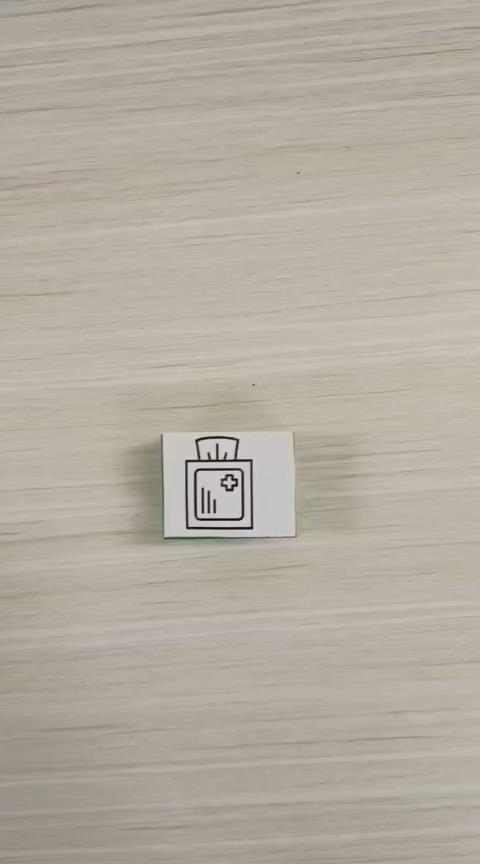Gauze: (160, 429, 296, 539)
